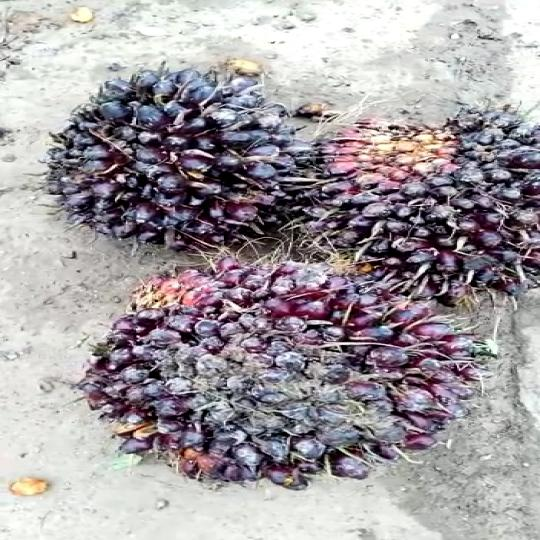kurang masak: (84, 250, 484, 505), (51, 53, 324, 251), (311, 94, 540, 281)
